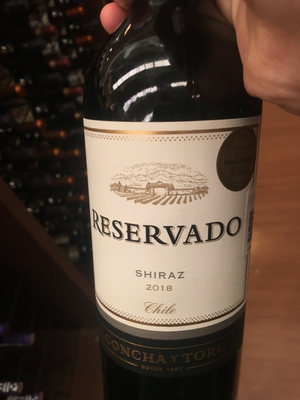reservado shiraz: (85, 18, 254, 400)
